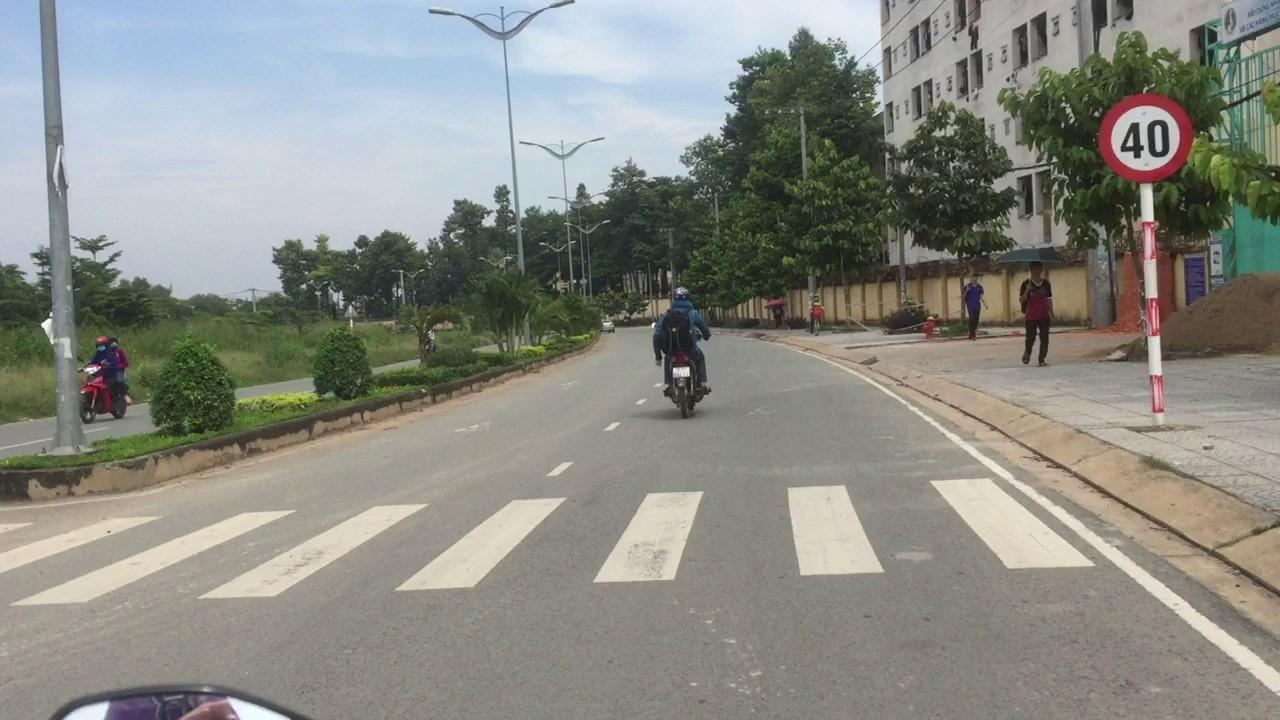P.131a: (1096, 96, 1194, 181)
